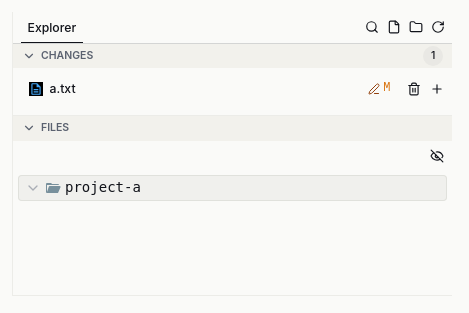
it: ContextWorkbench › aborts an in-flight diff and resets the view when the Project changes
Click the button "a.txt M" at x=36, y=89, box 18,71 -> 401,107
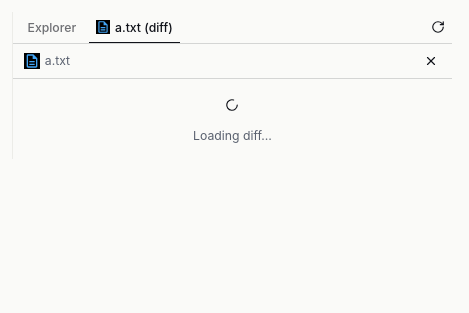
Check: the text "Loading diff…" is shown, box 193,126 -> 272,145
Check: the tab "a.txt (diff)" is shown, box 88,15 -> 181,40
